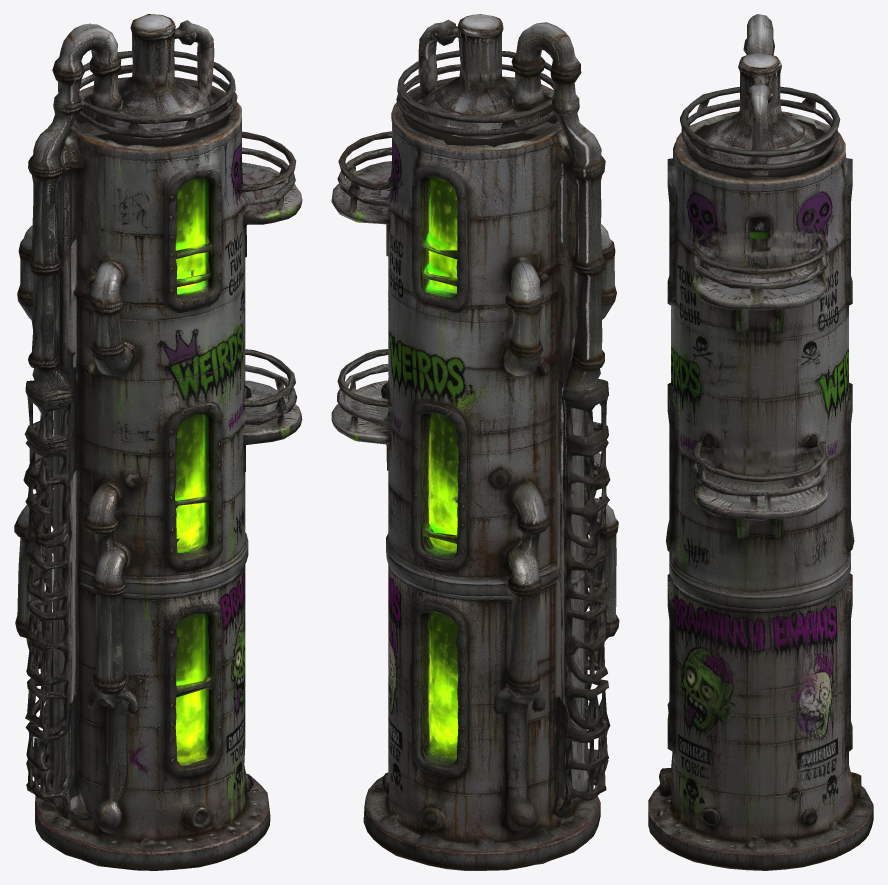
The model's file is toxic_waste_tank_3.glb.
3 renders of one model, left to right at view 1: azimuth 30°, elevation 25°; view 2: azimuth 150°, elevation 25°; view 3: azimuth 270°, elevation 25°, orthographic. The views are drawn at different scales.
Size of the model in its own units: 0.6379 by 1.91 by 0.501.
Materials: 1 (1 with a texture image).
